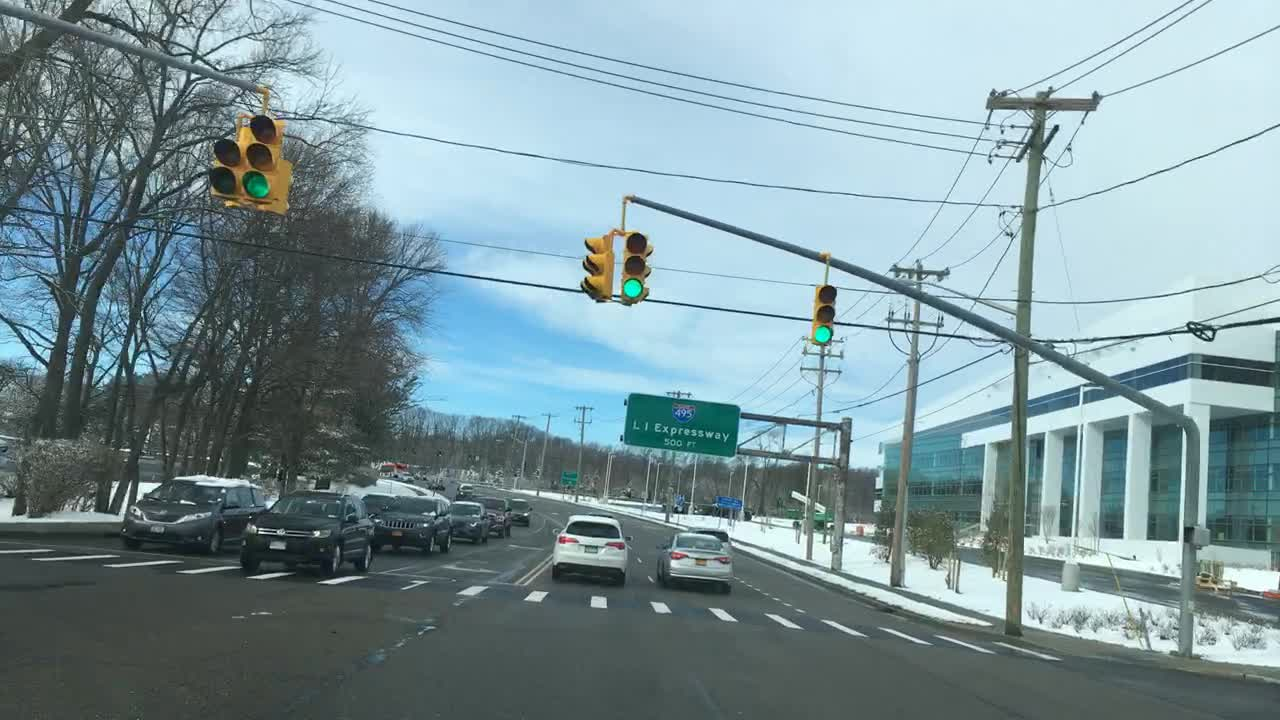car: (115, 473, 269, 559), (238, 486, 379, 575), (549, 515, 631, 587), (371, 492, 454, 555), (656, 533, 734, 595), (451, 499, 493, 545), (474, 494, 512, 540), (685, 525, 734, 560), (364, 489, 399, 519), (505, 498, 533, 526), (675, 501, 718, 515), (375, 459, 399, 479), (454, 482, 475, 499), (426, 473, 444, 491), (399, 470, 414, 484)
traffic light: (239, 112, 281, 200), (208, 120, 239, 208), (619, 229, 652, 303), (582, 229, 615, 303), (809, 282, 837, 348)
traffic sign: (621, 391, 738, 456), (713, 494, 745, 510), (787, 512, 832, 522), (561, 468, 577, 487)
